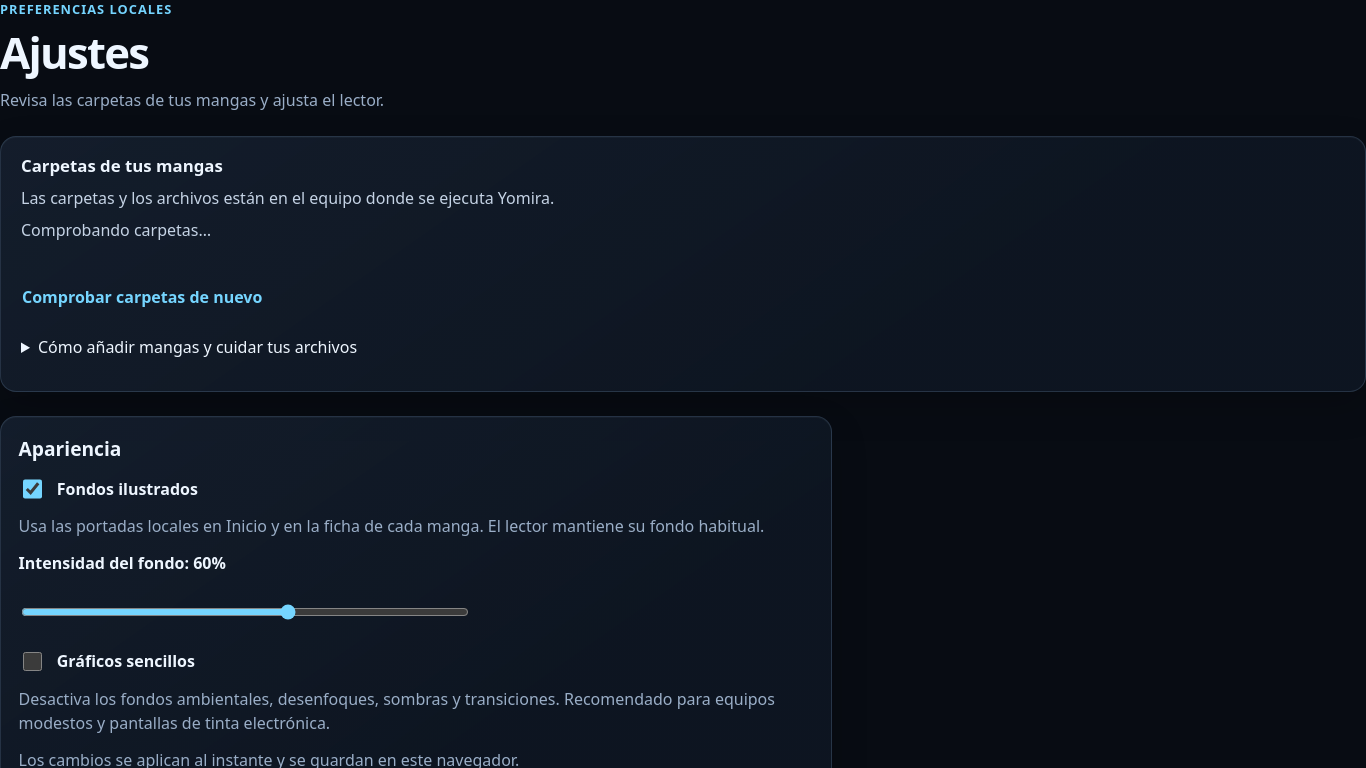
Test: SettingsPage › applies appearance immediately without submitting reader settings
Set the slider labelled "Intensidad del fondo: 60%" to "35" at (180, 612), box [21,590,469,634]
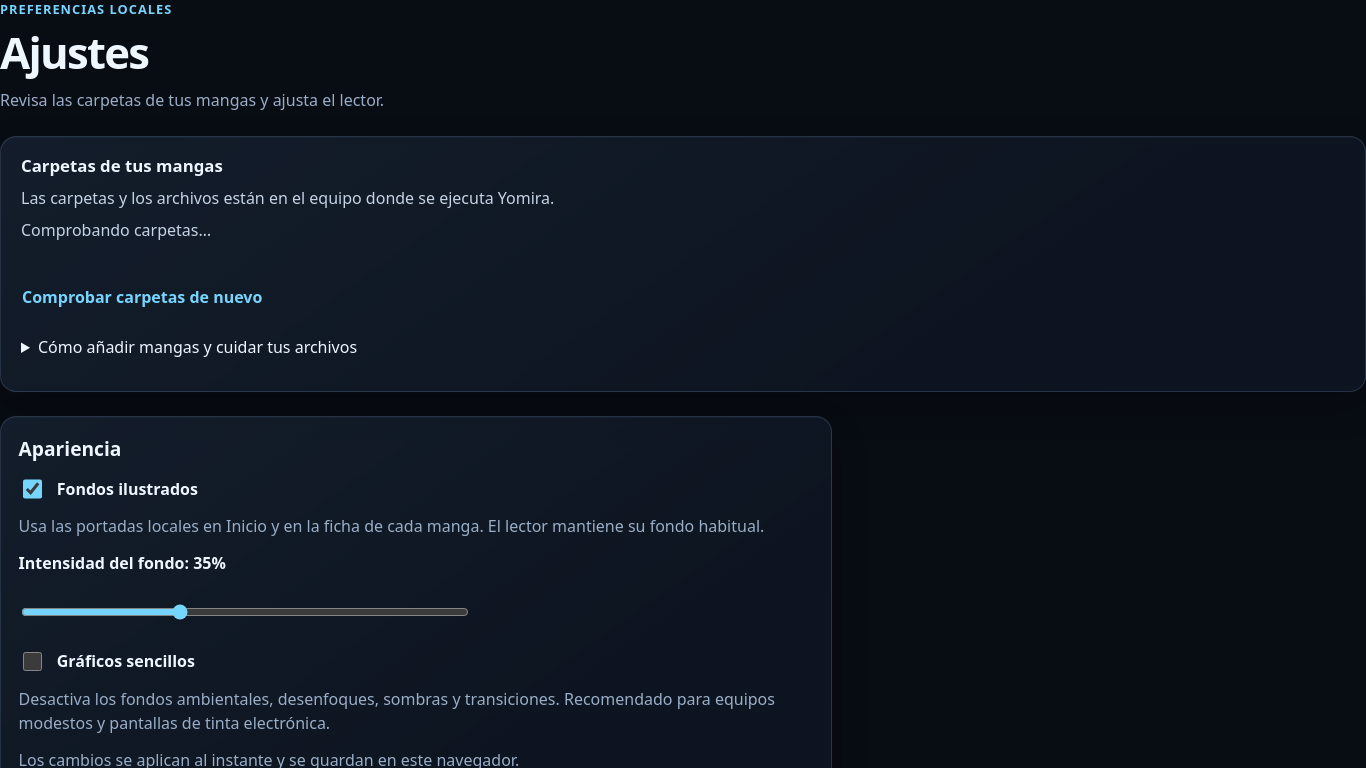
Click the checkbox labelled "Fondos ilustrados" at (32, 489), box [23,479,42,499]
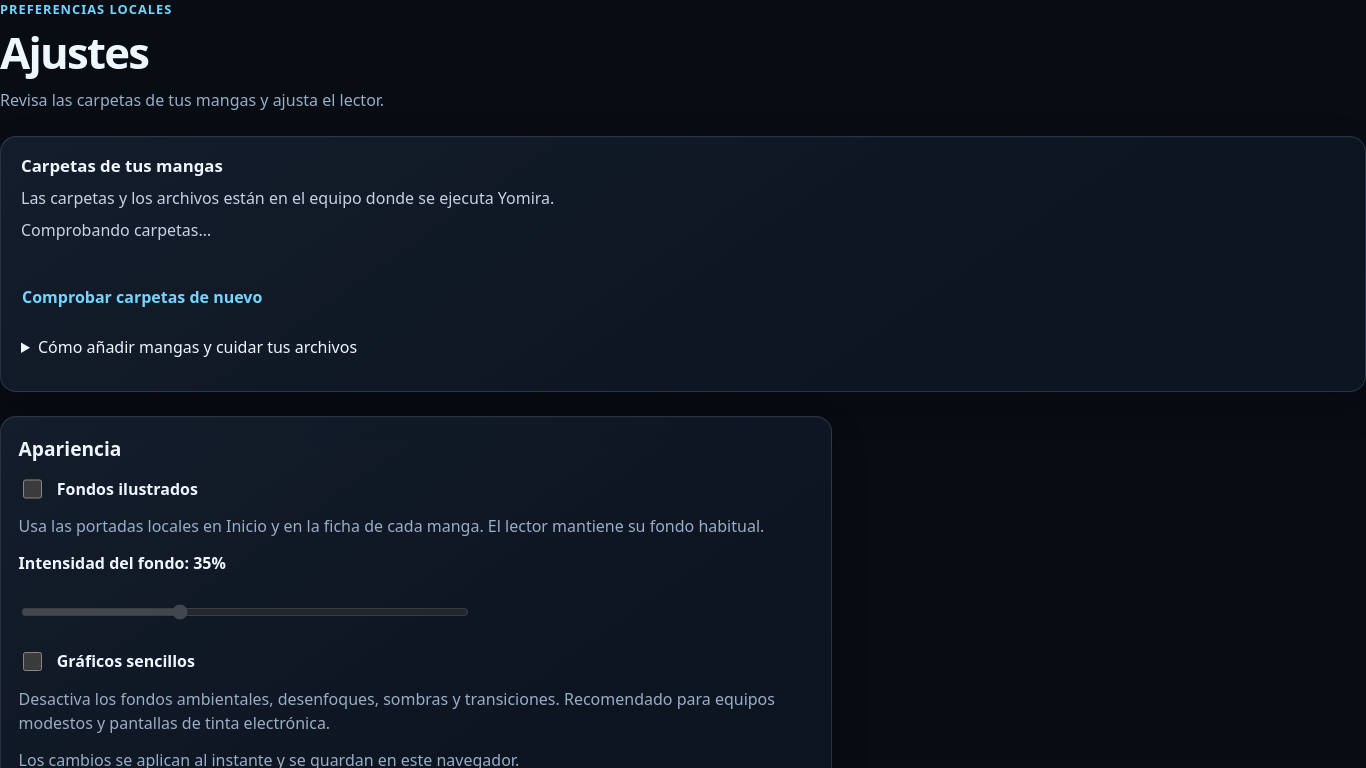
Now the slider labelled "Intensidad del fondo: 35%" is disabled, box [21,590,469,634]
Click the checkbox labelled "Gráficos sencillos" at (32, 661), box [23,652,42,671]
(page scrolled)
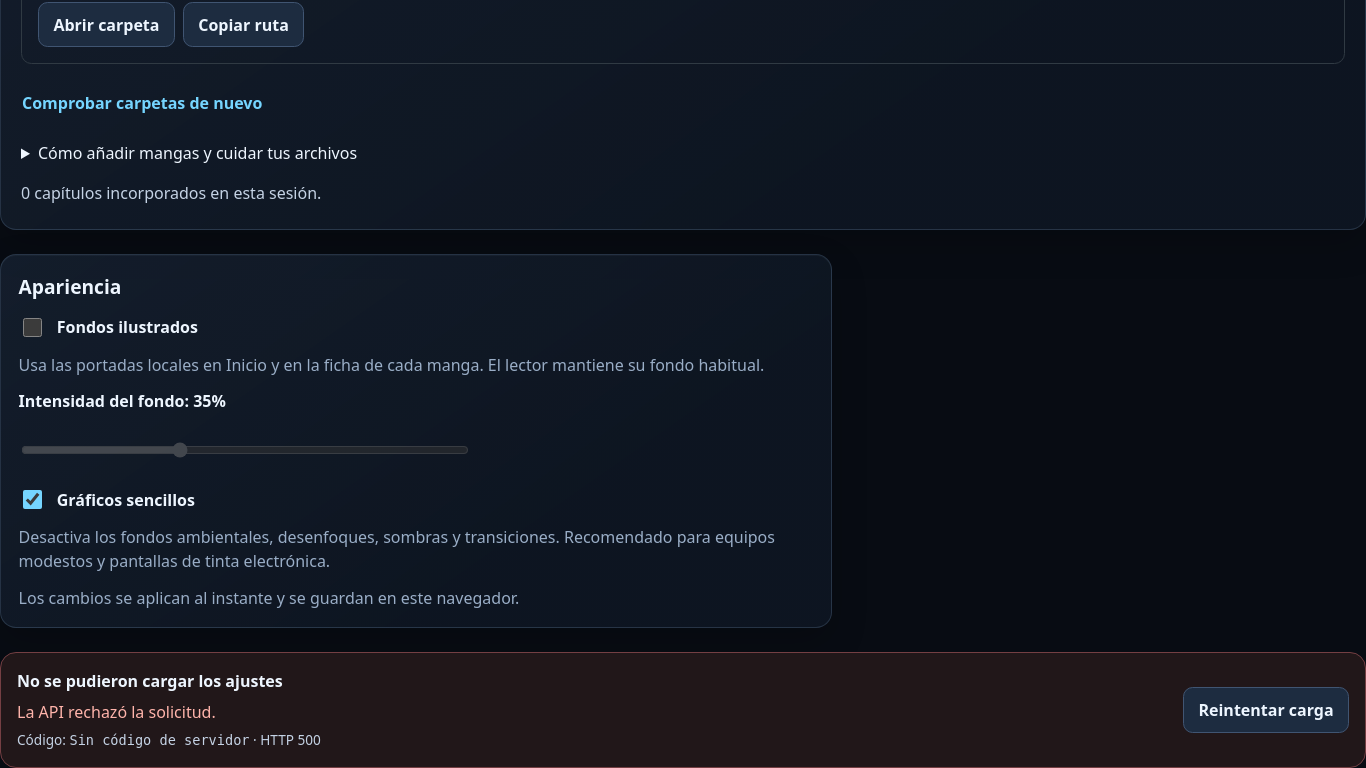
Now the message that starts with "No se pudieron cargar los ajustes" is shown, box [0,652,1365,767]
